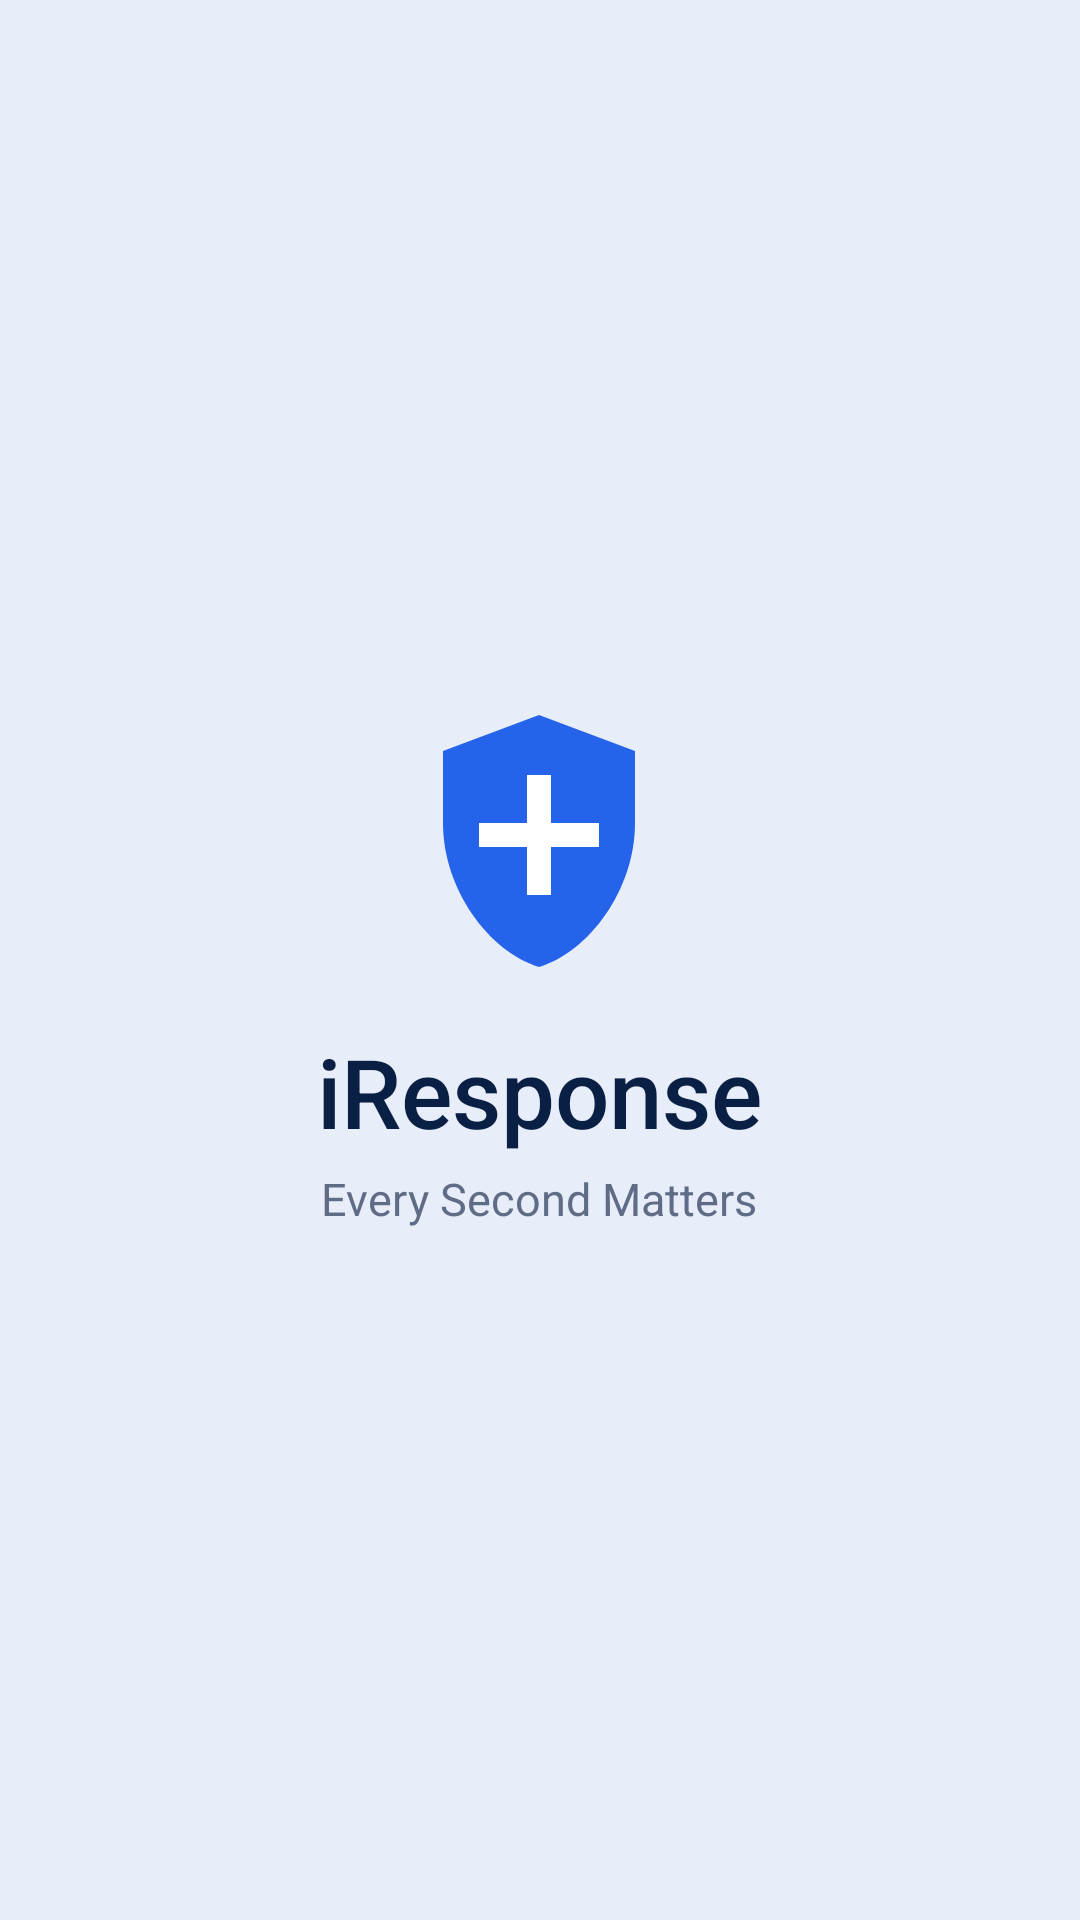

Icons on this 1080px×1920px Android screen, each with its box as (x1, y1, x2, y2):
shield cross: (443, 715, 635, 967)
